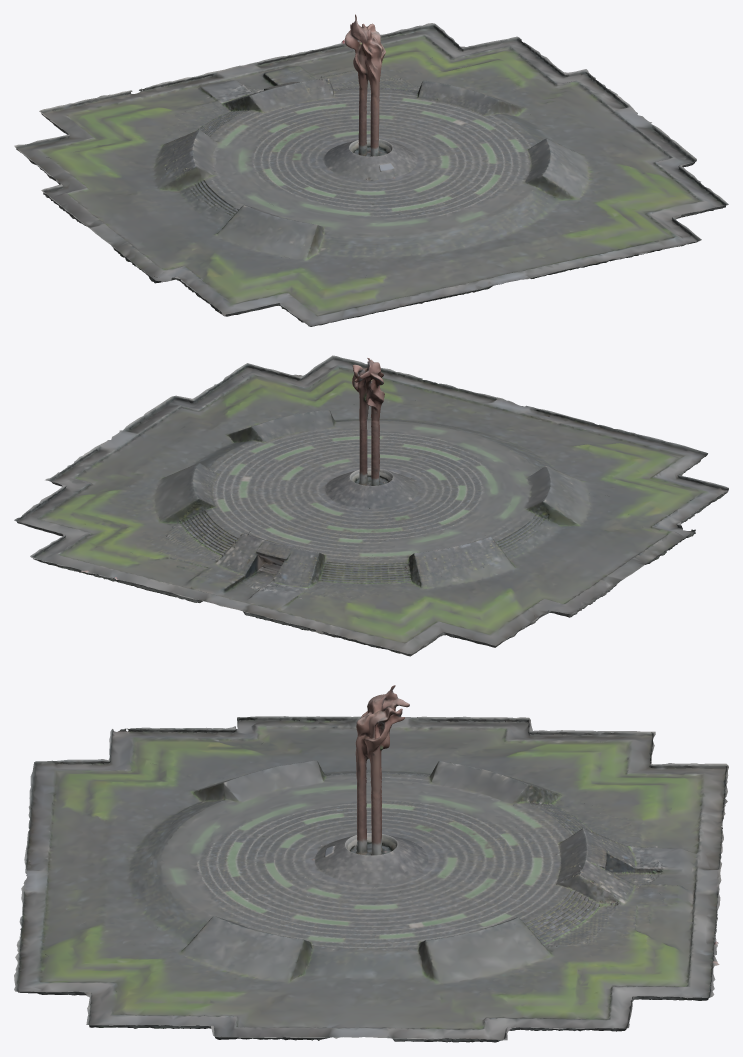
File: bandung_lautan_api.glb
The picture shows the model from 3 angles, top to bottom: view 1: azimuth 30°, elevation 25°; view 2: azimuth 150°, elevation 25°; view 3: azimuth 270°, elevation 25°; orthographic projection. The views are drawn at different scales.
Parts seen in each view (by area): view 1: Object_2, Object_3; view 2: Object_2, Object_3; view 3: Object_2, Object_3.
Boxes of the visible parts, x1=… form: Object_2: x1=135, y1=59, x2=728, y2=308; Object_3: x1=14, y1=14, x2=723, y2=326; Object_2: x1=72, y1=363, x2=695, y2=620; Object_3: x1=14, y1=355, x2=728, y2=656; Object_2: x1=19, y1=716, x2=721, y2=1039; Object_3: x1=14, y1=685, x2=728, y2=1042.
Size of the model in its own units: 79.81 by 22.78 by 74.84.
